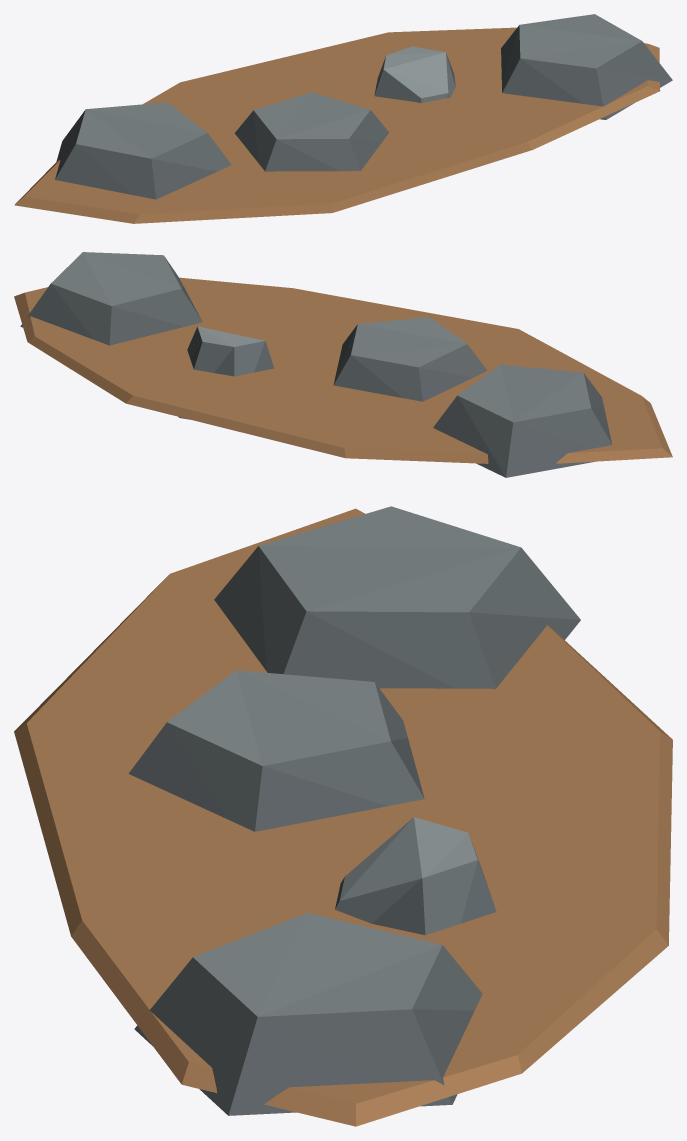
File: path_stones__a.glb
The picture shows the model from 3 angles, top to bottom: view 1: azimuth 30°, elevation 25°; view 2: azimuth 150°, elevation 25°; view 3: azimuth 270°, elevation 25°; orthographic projection. The views are drawn at different scales.
Parts seen in each view (by area): view 1: trodden, rock_single_A, rock_single_A.004, rock_single_A.002, rock_single_D; view 2: trodden, rock_single_A, rock_single_A.004, rock_single_A.002, rock_single_D; view 3: trodden, rock_single_A, rock_single_A.004, rock_single_A.002, rock_single_D.
Part boxes in pixels (box(x1,y1,x2,y2)): trodden: box(14, 27, 660, 223); rock_single_A: box(55, 102, 231, 199); rock_single_A.004: box(501, 14, 672, 119); rock_single_A.002: box(234, 92, 389, 171); rock_single_D: box(374, 46, 455, 103); trodden: box(14, 277, 672, 463); rock_single_A: box(433, 364, 612, 477); rock_single_A.004: box(20, 252, 202, 345); rock_single_A.002: box(333, 317, 487, 401); rock_single_D: box(178, 326, 274, 419); trodden: box(14, 508, 672, 1126); rock_single_A: box(214, 506, 580, 688); rock_single_A.004: box(134, 912, 482, 1115); rock_single_A.002: box(128, 670, 424, 831); rock_single_D: box(335, 817, 496, 935).
Size of the model in its own units: 2.38 by 0.2585 by 1.08.
